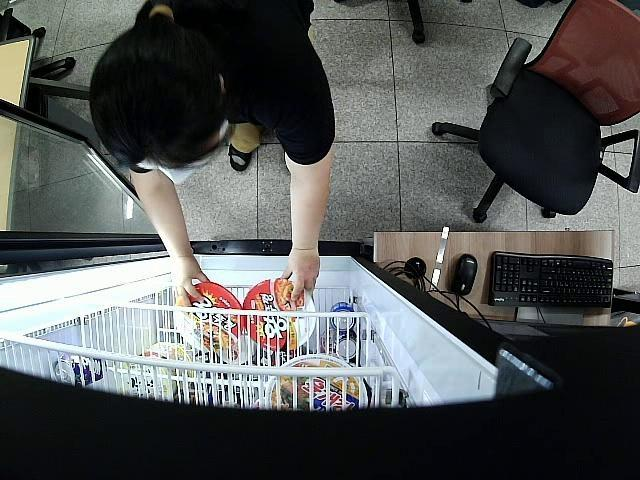10_wangTtukkeong: (246, 279, 314, 350), (174, 281, 237, 351)
